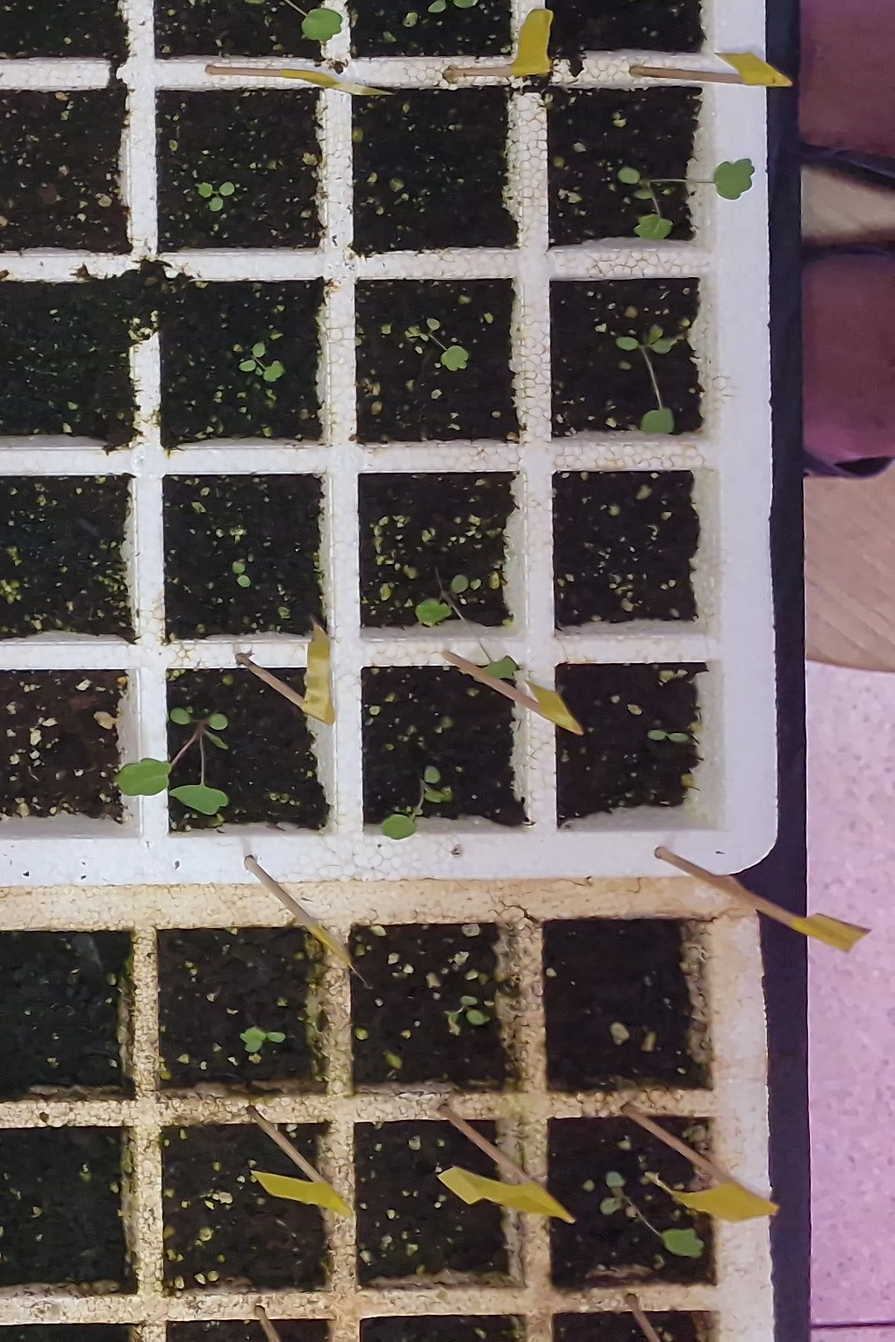Folha: (114, 759, 171, 795), (714, 159, 755, 200), (169, 785, 227, 813), (302, 8, 342, 41), (416, 598, 451, 625), (640, 408, 674, 435), (482, 654, 517, 679), (634, 214, 670, 238), (382, 815, 415, 839), (441, 347, 468, 371), (264, 361, 285, 381), (206, 731, 228, 749), (208, 713, 228, 730), (171, 708, 191, 725), (618, 168, 639, 183), (451, 574, 468, 592), (652, 340, 670, 354), (649, 324, 662, 343), (425, 766, 440, 782), (617, 337, 637, 349), (424, 790, 442, 802), (219, 182, 234, 196), (429, 0, 446, 12), (198, 183, 212, 197), (648, 730, 665, 740), (634, 189, 651, 199), (669, 734, 689, 742), (210, 197, 222, 210), (253, 343, 264, 357), (240, 361, 255, 371), (232, 562, 245, 573), (237, 576, 250, 587), (428, 318, 439, 329), (454, 0, 471, 7)
Germinacao: (114, 708, 228, 814), (618, 159, 755, 240), (417, 575, 517, 679), (617, 324, 674, 433), (381, 765, 444, 839), (247, 0, 342, 43), (419, 319, 468, 370), (240, 343, 285, 381), (199, 181, 235, 211), (429, 0, 477, 12), (232, 561, 251, 587), (648, 730, 690, 741)
